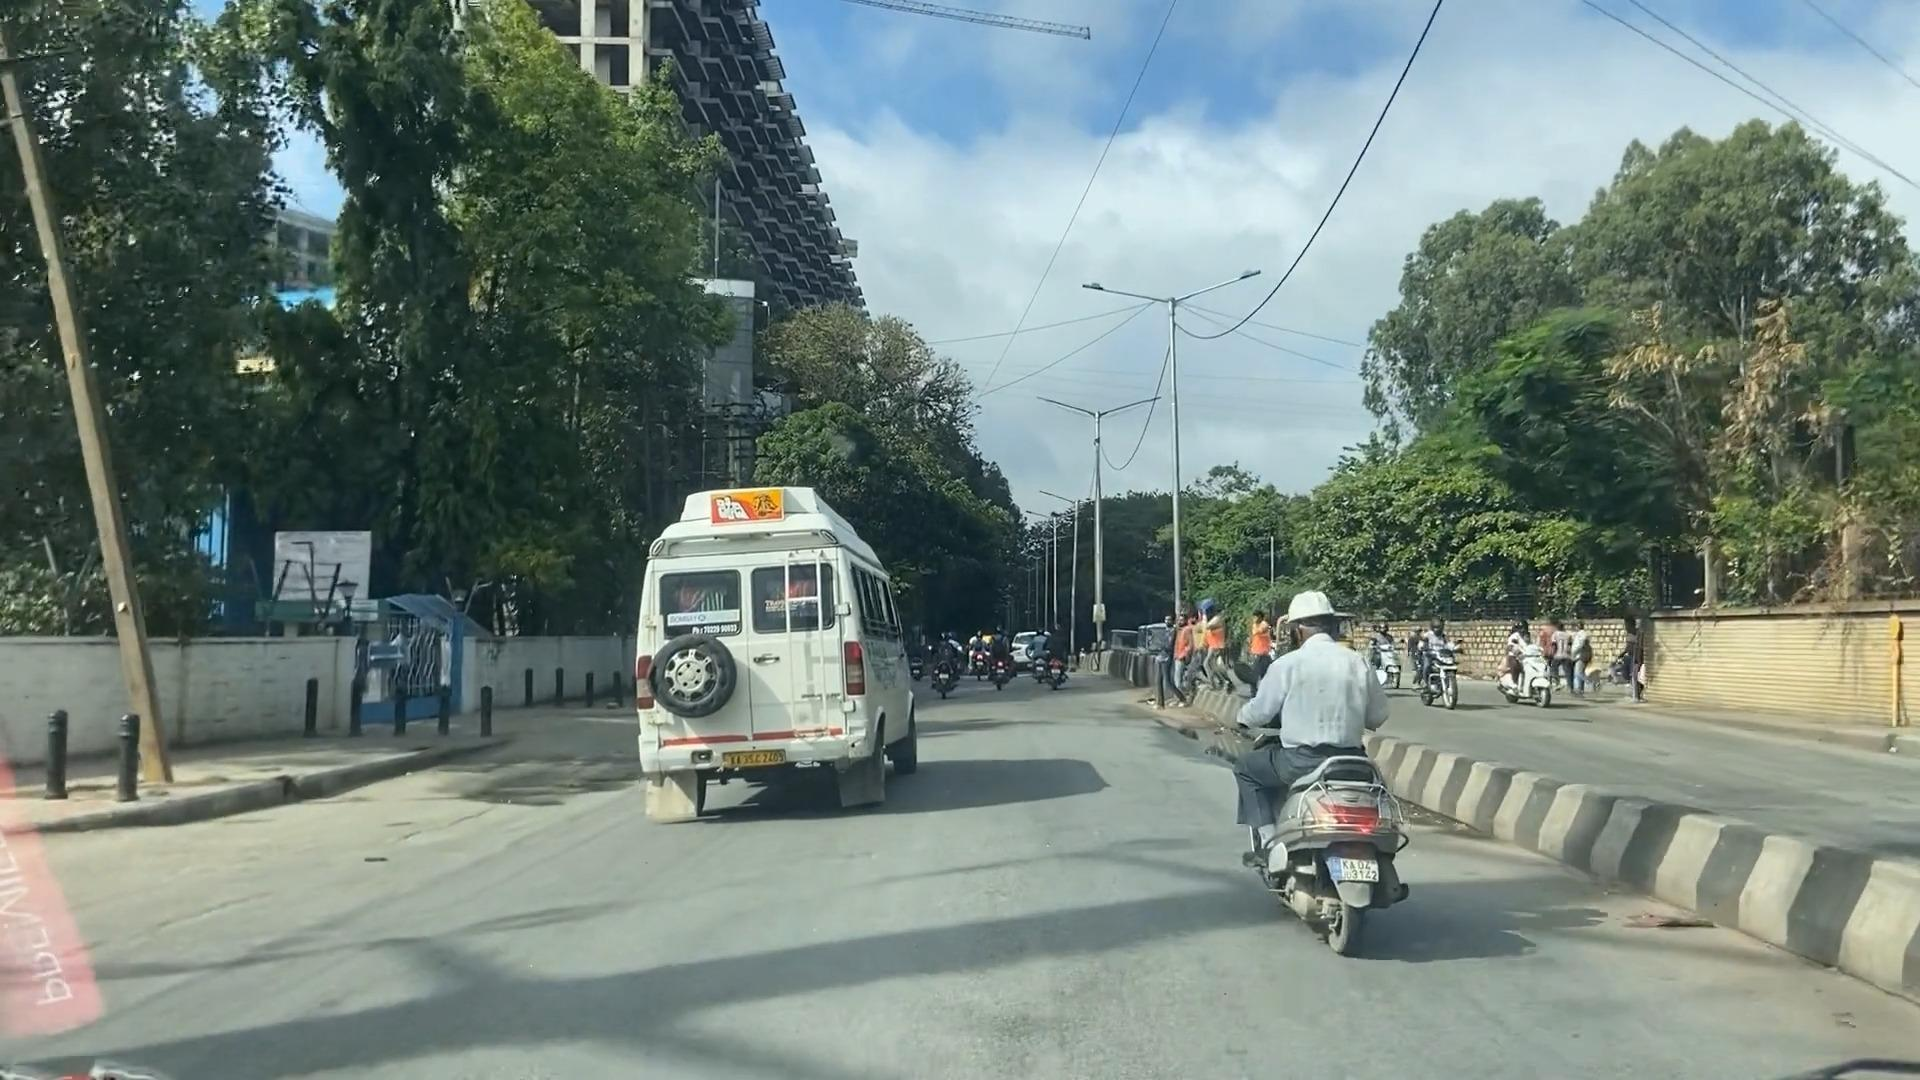HMV: (625, 514, 915, 816)
LMV: (1230, 585, 1443, 967)
